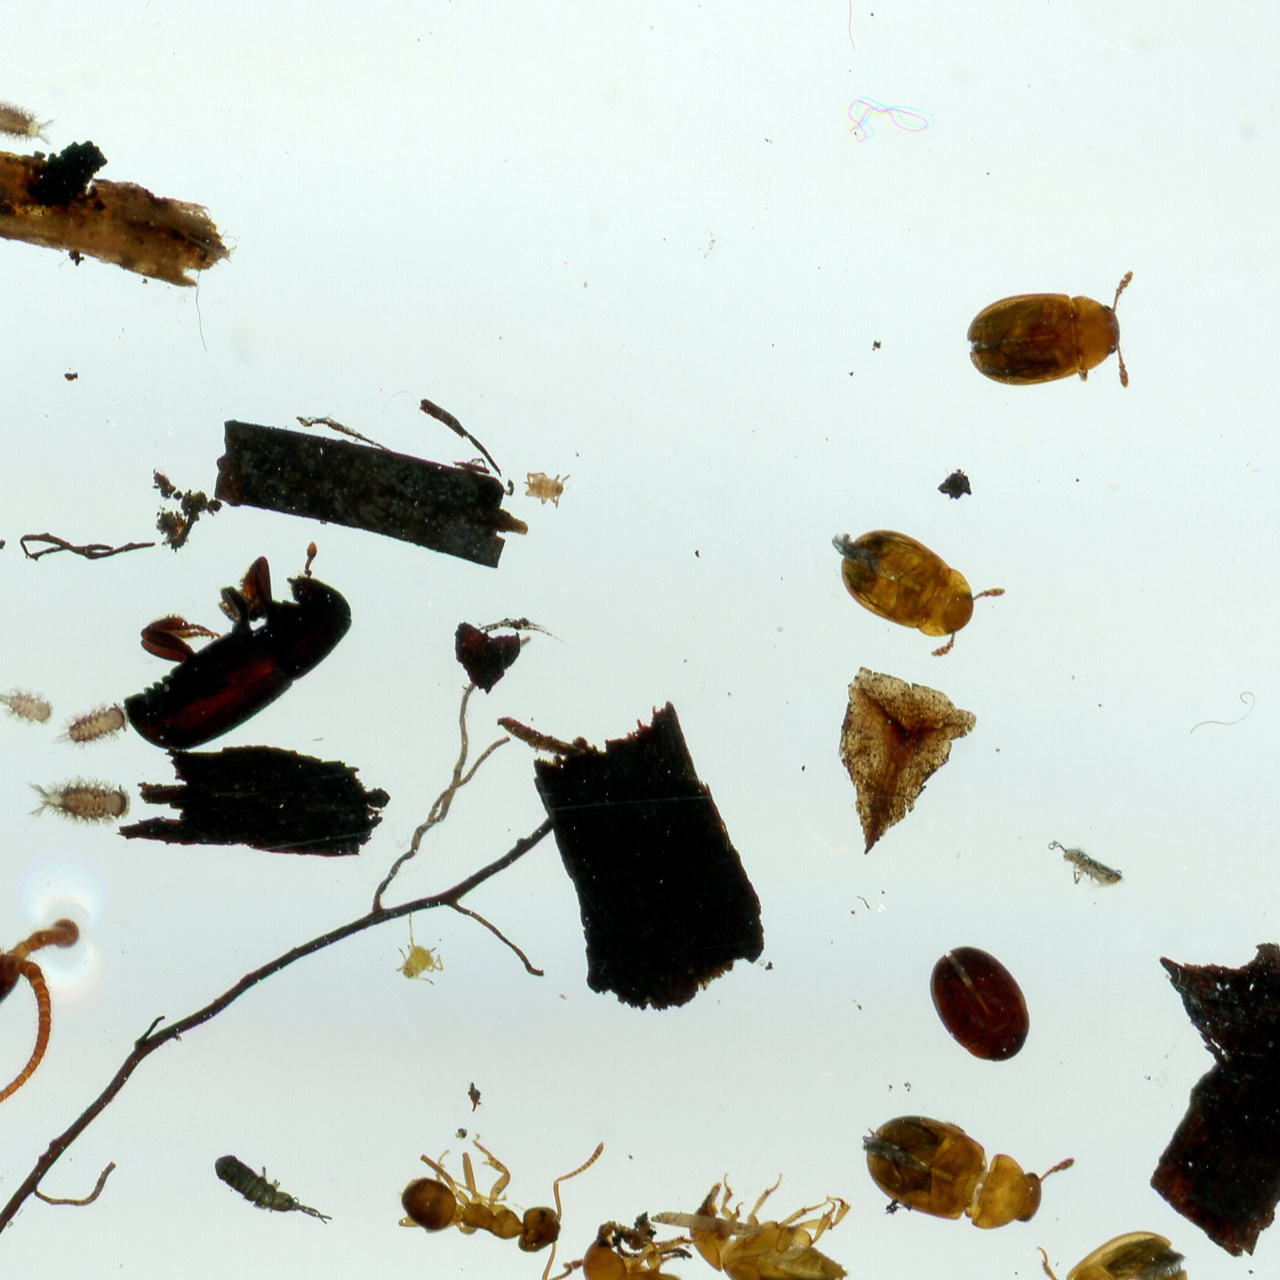arthropod: (134, 540, 342, 753), (387, 1136, 608, 1280), (856, 1102, 1089, 1231), (830, 512, 1007, 658), (967, 272, 1145, 392), (701, 1165, 878, 1280), (926, 921, 1037, 1064), (1022, 1191, 1175, 1280), (0, 867, 69, 1058), (212, 1137, 339, 1228), (581, 1208, 714, 1280), (16, 769, 128, 823), (1043, 836, 1130, 892), (394, 915, 445, 988), (0, 90, 60, 145), (61, 695, 114, 750), (0, 682, 57, 727), (516, 468, 572, 510)
